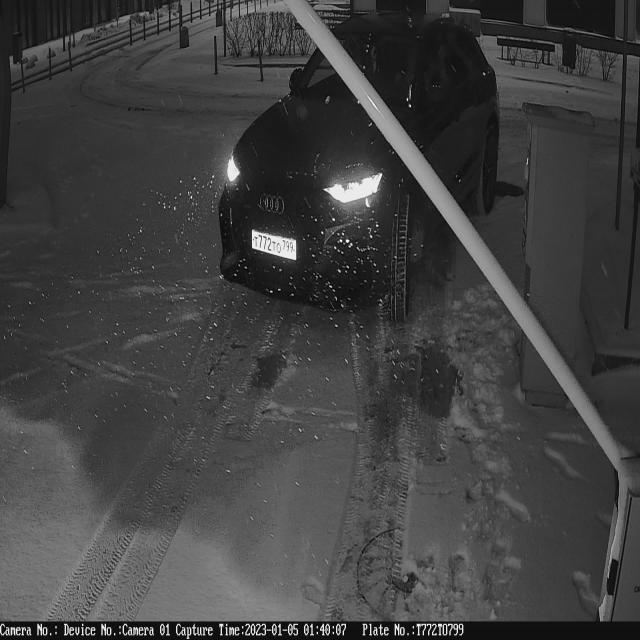car-plate-numbers: (250, 226, 299, 264)
